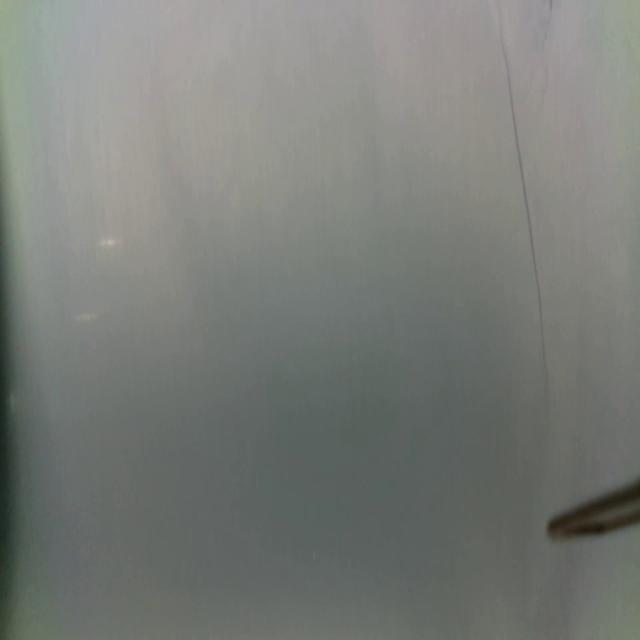crease: (498, 29, 550, 378)
